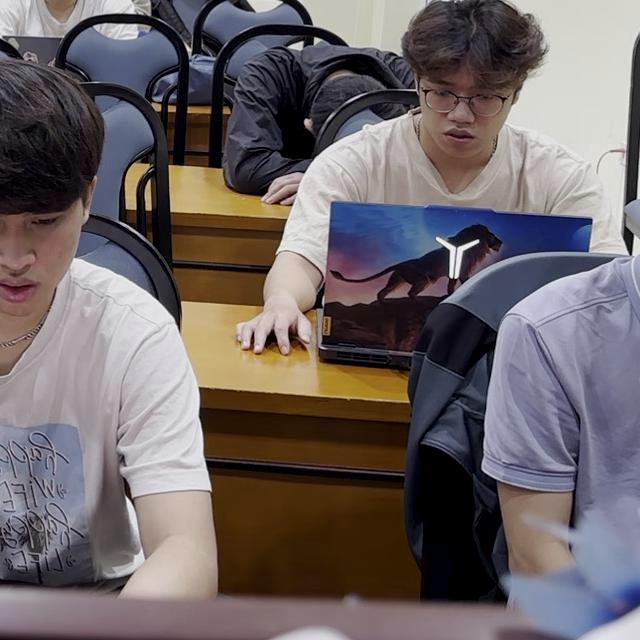Looking away: (0, 206, 88, 316), (418, 68, 515, 157)
